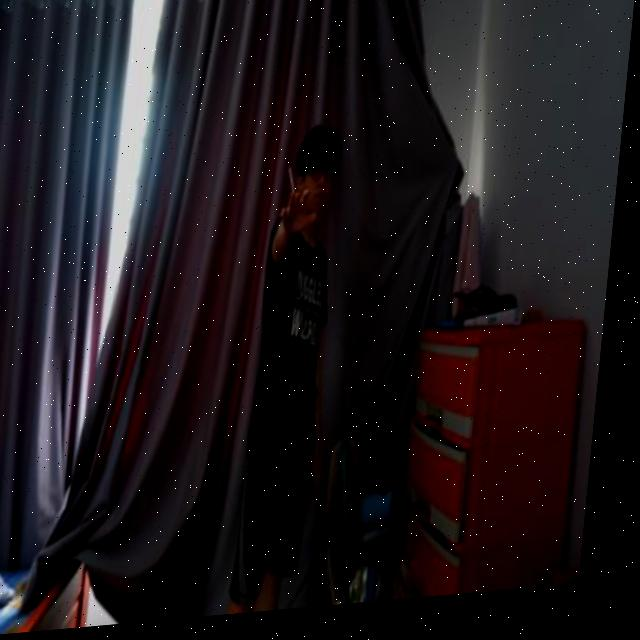cigarette: (291, 171, 302, 199)
